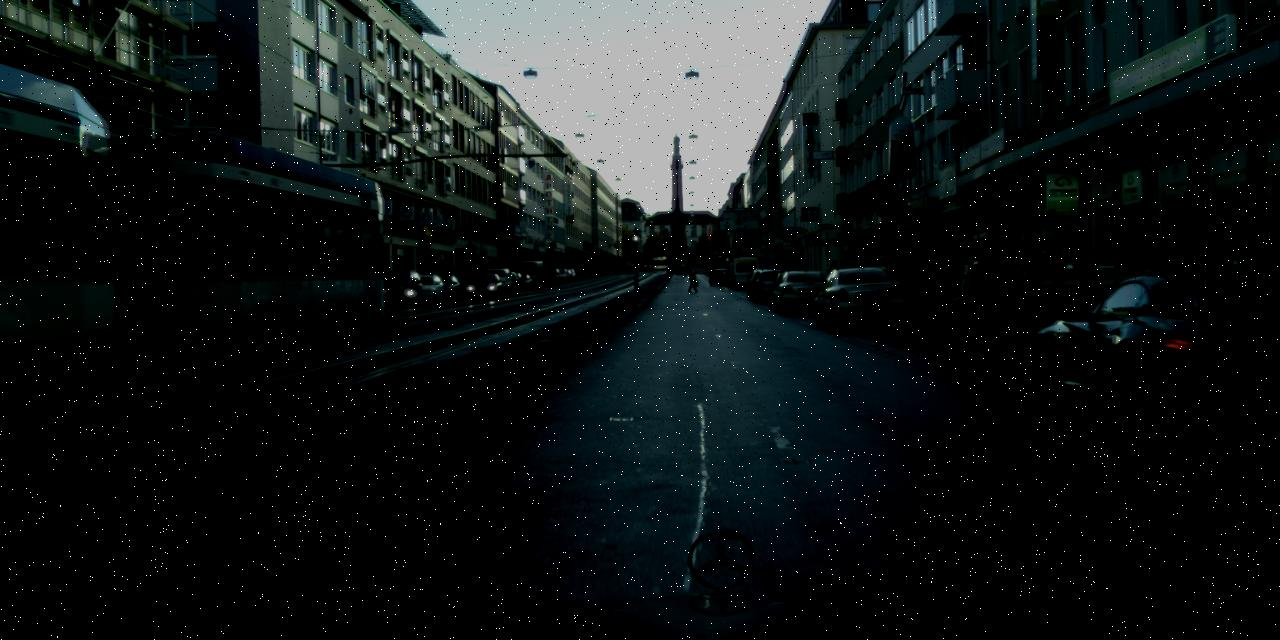ped: (827, 260, 839, 291), (687, 264, 698, 290), (769, 263, 776, 283)
